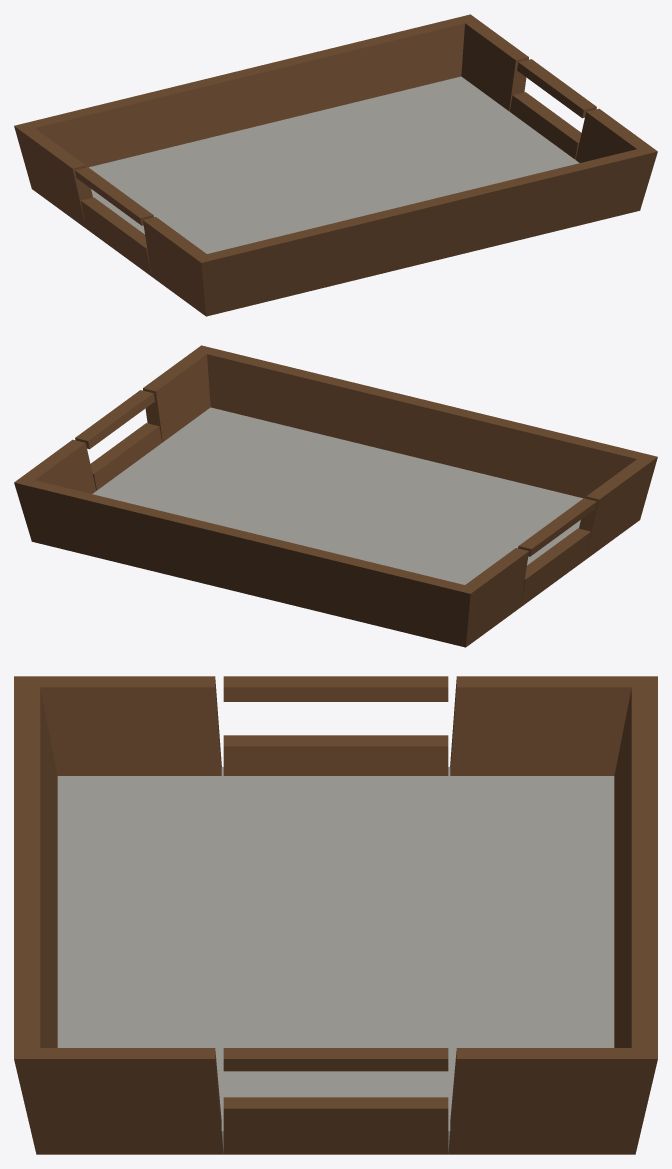
File: FN_Tray_Serving.glb
The picture shows the model from 3 angles, top to bottom: view 1: azimuth 30°, elevation 25°; view 2: azimuth 150°, elevation 25°; view 3: azimuth 270°, elevation 25°; orthographic projection. The views are drawn at different scales.
Visible parts, largest first — view 1: FN_Tray_Serving; view 2: FN_Tray_Serving; view 3: FN_Tray_Serving.
Boxes of the visible parts, bbox=[...] form: FN_Tray_Serving: bbox=[14, 14, 657, 316]; FN_Tray_Serving: bbox=[14, 345, 657, 647]; FN_Tray_Serving: bbox=[14, 676, 657, 1154].
Bounding box in the file's own units: 0.484 × 0.062 × 0.344.
1 material, 1 textured.
